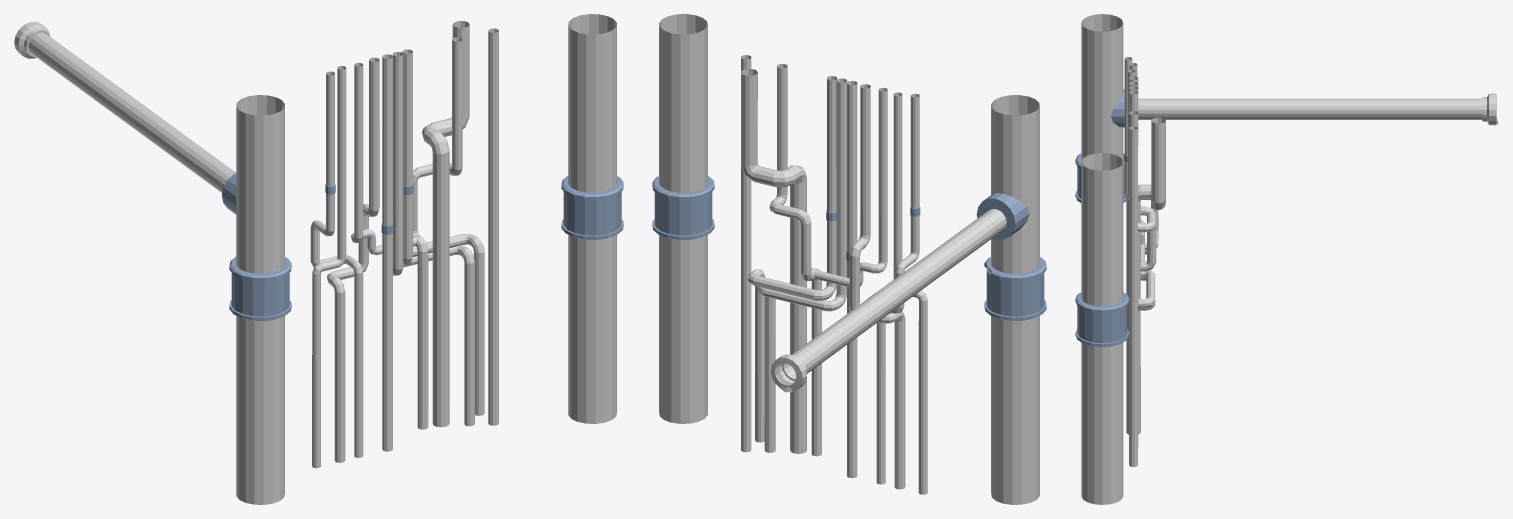
Rendered from chem_back_pipes.fbx.
The picture shows the model from 3 angles, left to right: view 1: azimuth 30°, elevation 25°; view 2: azimuth 150°, elevation 25°; view 3: azimuth 270°, elevation 25°; orthographic projection. The views are drawn at different scales.
Parts seen in each view (by area): view 1: refinery_background_pipes t3; view 2: refinery_background_pipes t3; view 3: refinery_background_pipes t3.
Boxes of the visible parts, left/top/right/bottom form: refinery_background_pipes t3: left=14, top=14, right=623, bottom=504; refinery_background_pipes t3: left=652, top=14, right=1046, bottom=504; refinery_background_pipes t3: left=1075, top=14, right=1498, bottom=504.
Size of the model in its own units: 997 by 968 by 1102.
